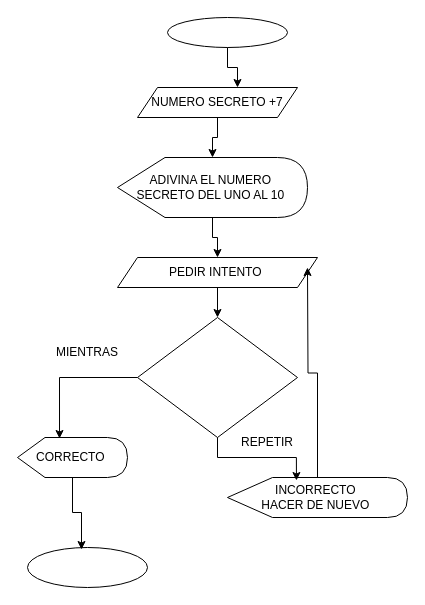
This 425x605 diagram has some shape labels left out. The shapes that lost their labels are listed below. From the top down, each one's box as (x1, y1, x2, y2) in pixels, then its label:
(166, 16, 288, 48): INICIO
(136, 316, 298, 438): INTENTO = NUMERO CORRECTO
(26, 546, 148, 588): FIN
